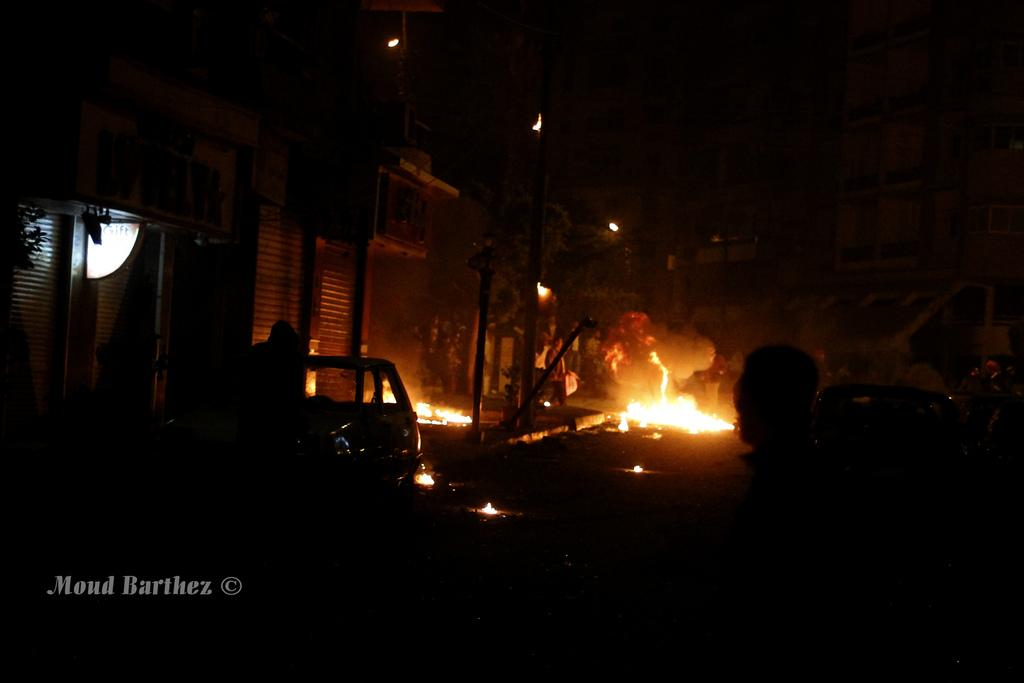fire: (627, 393, 717, 432)
